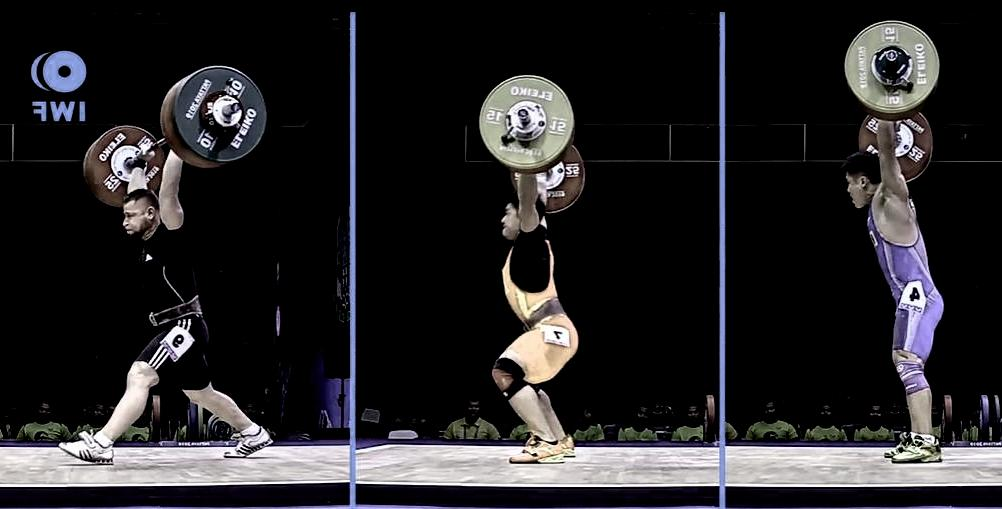Barbell: (511, 106, 531, 125), (881, 45, 900, 64), (222, 100, 242, 117)
